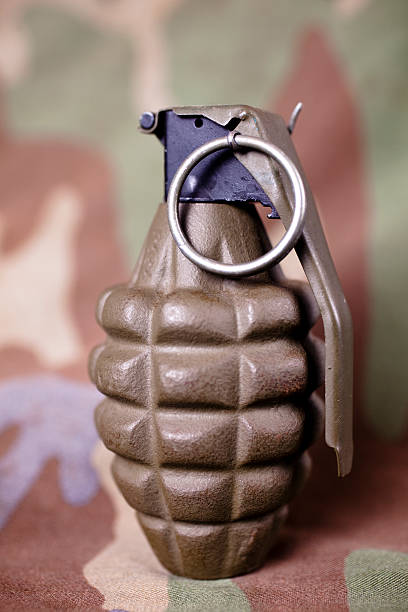e1: (89, 105, 356, 580)
